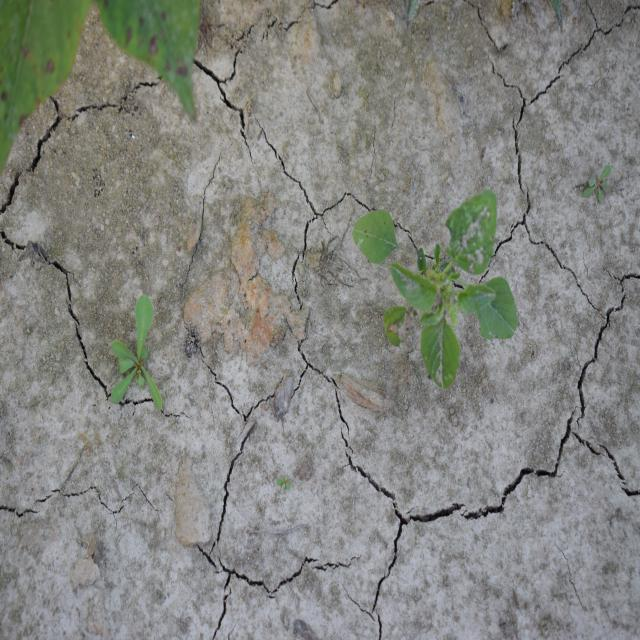Carpetweed: (107, 294, 164, 414), (582, 164, 612, 203)
PalmerAmaranth: (352, 188, 520, 392)
